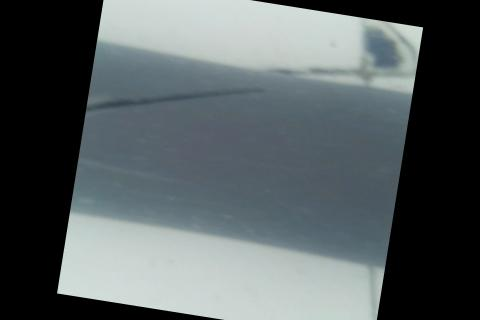keretakan: (85, 58, 271, 141)
